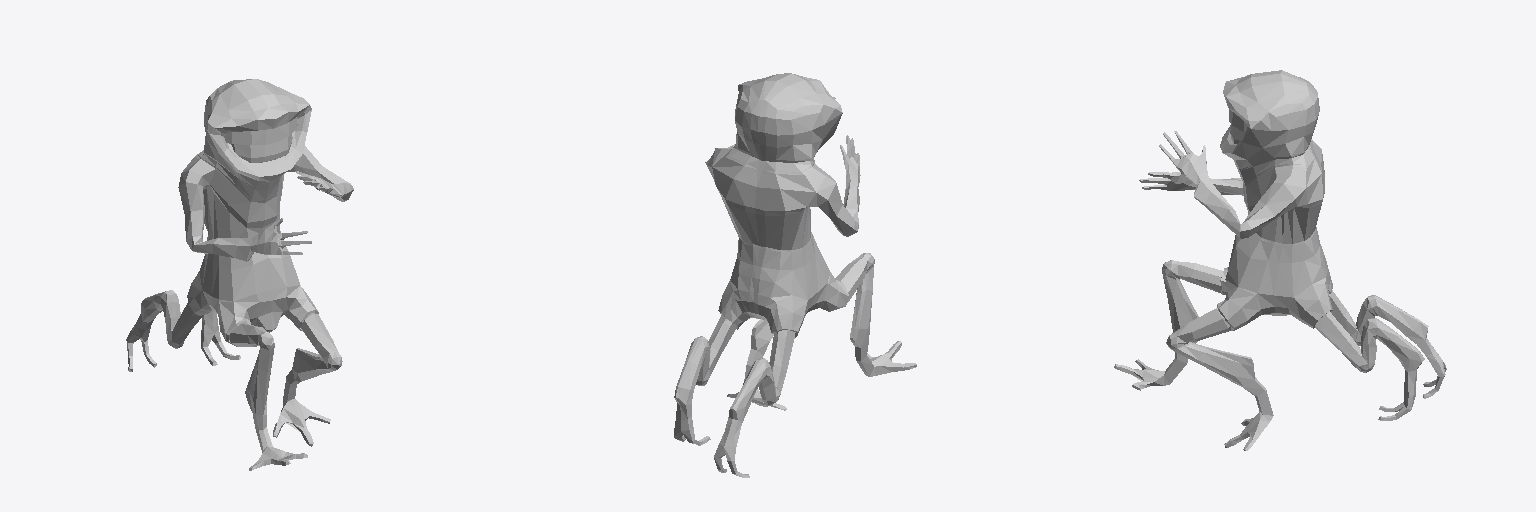
Rendered from smokePosed.obj.
3 views of the same model, side by side, from view 1: azimuth 30°, elevation 25°; view 2: azimuth 150°, elevation 25°; view 3: azimuth 270°, elevation 25° (orthographic).
Parts seen in each view (by area): view 1: smokeM_geo1 mesh SMOKE; view 2: smokeM_geo1 mesh SMOKE; view 3: smokeM_geo1 mesh SMOKE.
Boxes of the visible parts, <box> form: smokeM_geo1 mesh SMOKE: <box>126,79,353,470</box>; smokeM_geo1 mesh SMOKE: <box>674,73,916,477</box>; smokeM_geo1 mesh SMOKE: <box>1114,70,1446,450</box>.
Bounding box in the file's own units: 1.68 × 3.66 × 3.11.